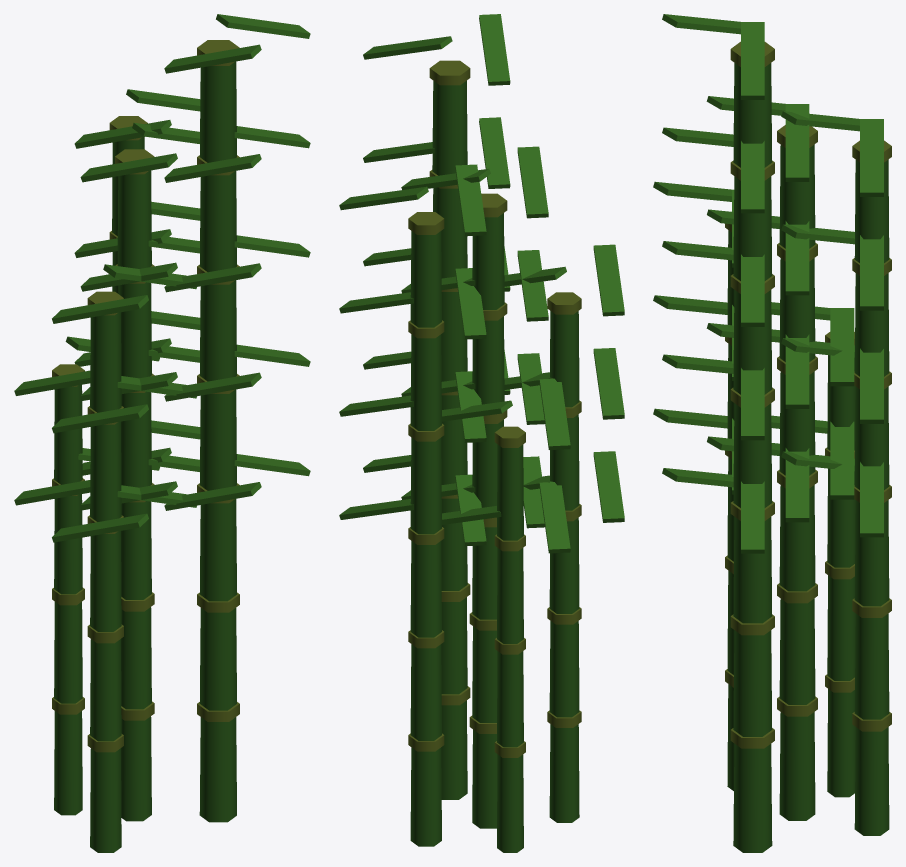
The model's file is bamboo_cluster.glb.
The picture shows the model from 3 angles, left to right: view 1: azimuth 30°, elevation 25°; view 2: azimuth 150°, elevation 25°; view 3: azimuth 270°, elevation 25°; orthographic projection. The views are drawn at different scales.
Visible parts, largest first — view 1: BambooCluster_mat0, BambooCluster_mat2, BambooCluster_mat1; view 2: BambooCluster_mat0, BambooCluster_mat2, BambooCluster_mat1; view 3: BambooCluster_mat0, BambooCluster_mat2, BambooCluster_mat1.
Part boxes in pixels (left/top/right/bottom): BambooCluster_mat0: left=54, top=61, right=236, bottom=852; BambooCluster_mat2: left=14, top=14, right=310, bottom=542; BambooCluster_mat1: left=52, top=40, right=239, bottom=752; BambooCluster_mat0: left=410, top=80, right=579, bottom=852; BambooCluster_mat2: left=339, top=14, right=624, bottom=553; BambooCluster_mat1: left=408, top=60, right=581, bottom=757; BambooCluster_mat0: left=727, top=63, right=889, bottom=852; BambooCluster_mat2: left=653, top=14, right=883, bottom=553; BambooCluster_mat1: left=725, top=41, right=891, bottom=748.
Bounding box in the file's own units: 1.05 × 3.06 × 0.8015.
